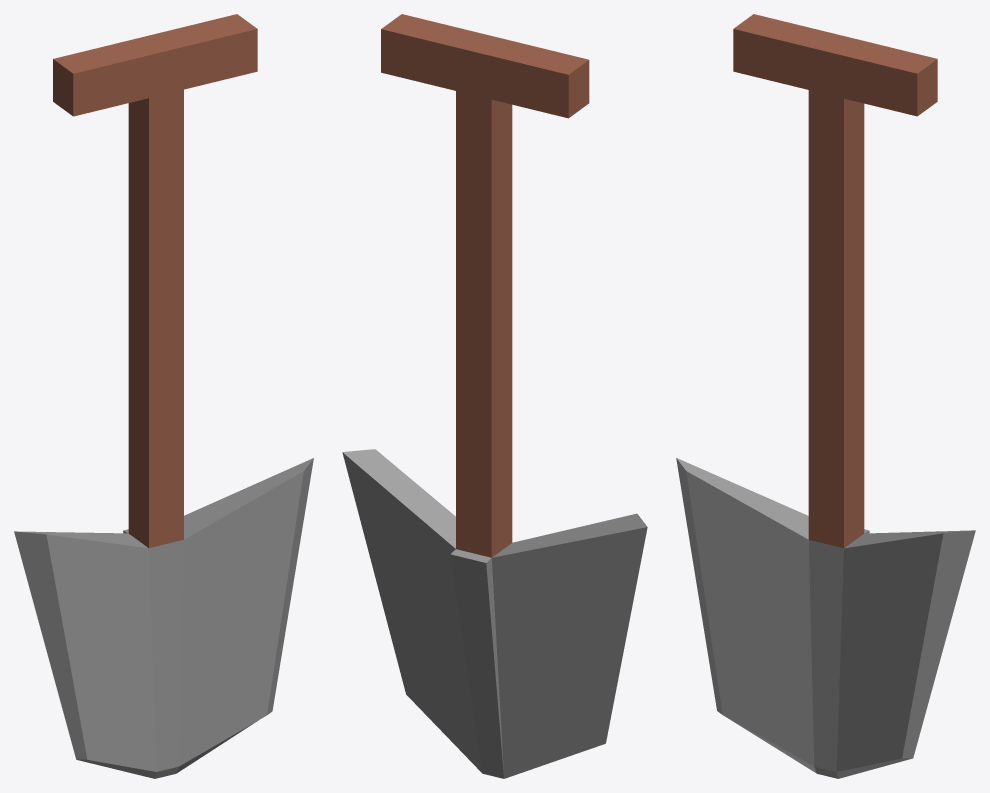
The model's file is LD_Shovel.fbx.
3 renders of one model, left to right at view 1: azimuth 30°, elevation 25°; view 2: azimuth 150°, elevation 25°; view 3: azimuth 330°, elevation 25°, orthographic.
Visible parts, largest first — view 1: Shovel; view 2: Shovel; view 3: Shovel.
Part boxes in pixels (box(x1,y1,x2,y2)): Shovel: box(14, 14, 313, 778); Shovel: box(342, 14, 647, 778); Shovel: box(676, 14, 975, 778).
Bounding box in the file's own units: 81.55 × 189 × 17.98.
